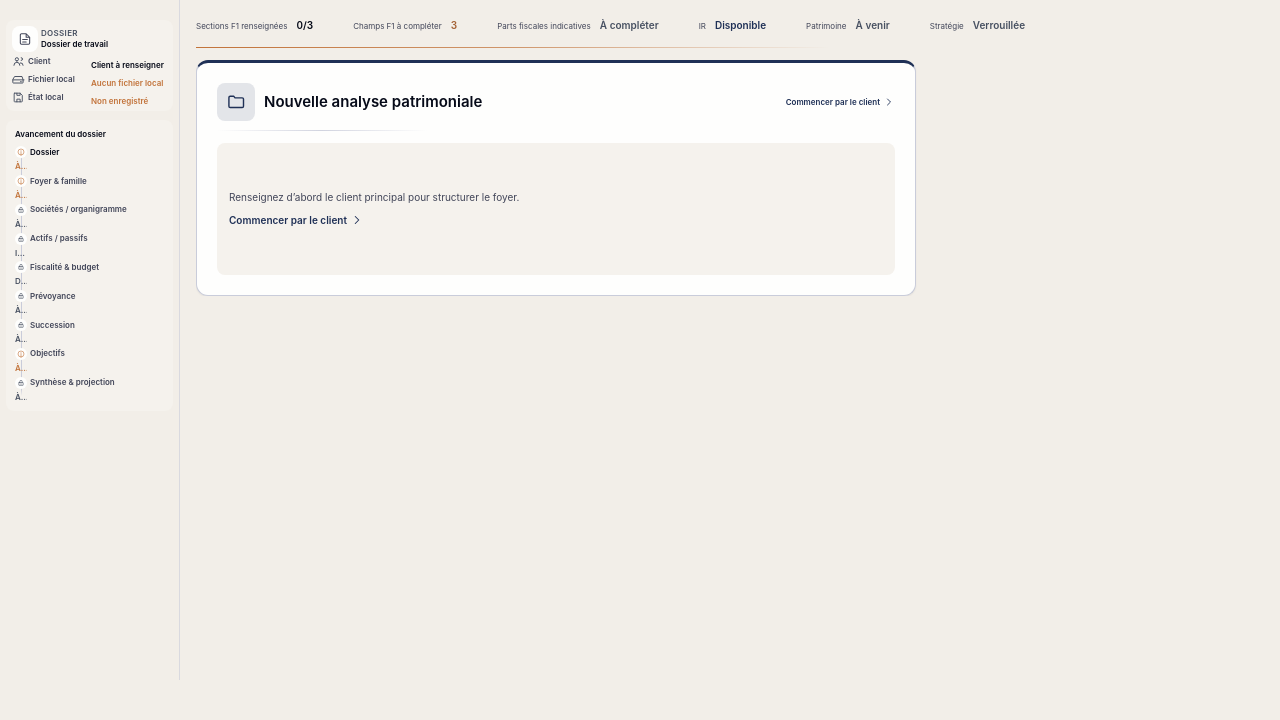
Scenario: AuditPage › ouvre la page Foyer & famille en pivot sans wizard puis revient au dossier par le header
What coordinates should you click on to do the following:
click the button "Commencer par le client"
I would click on:
 (840, 102)
Its box is top-left (786, 93), bottom-right (895, 111).
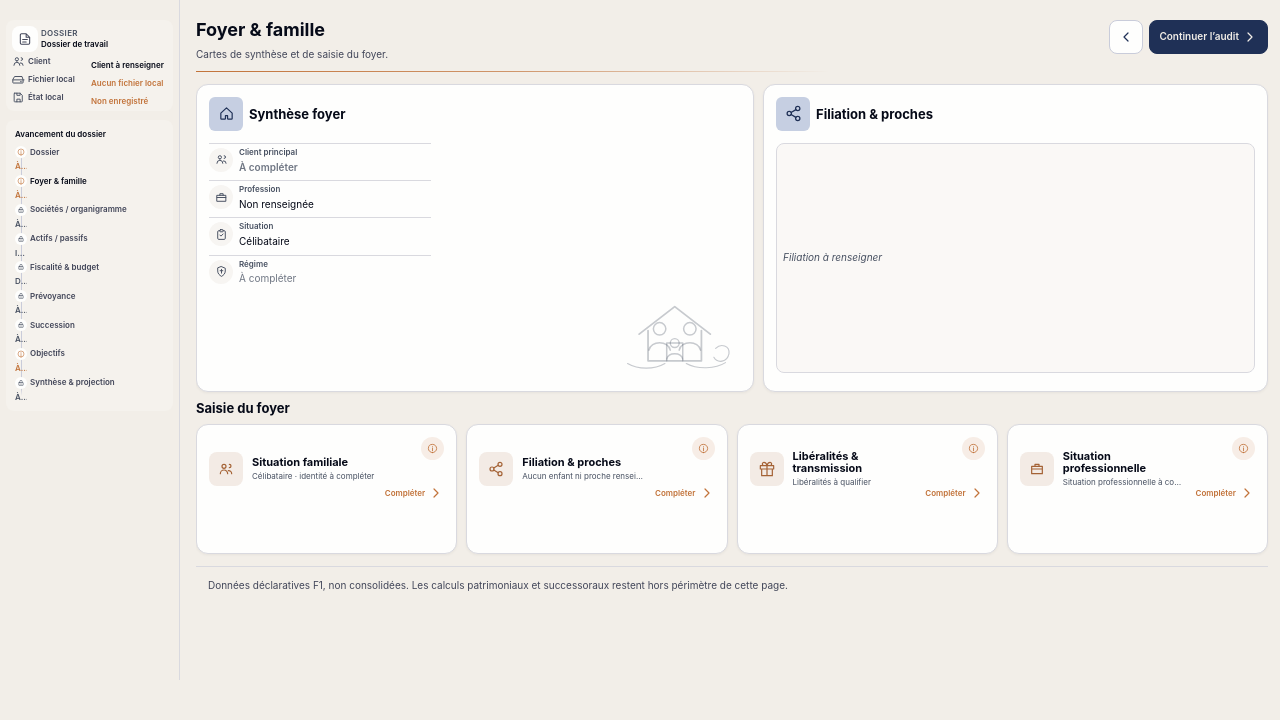
Result: the heading "Foyer & famille" is shown at top-left (196, 19), bottom-right (325, 40)
Result: the text "Cartes de synthèse et de saisie du foyer." is shown at top-left (196, 46), bottom-right (388, 62)
Result: the heading "Synthèse foyer" is shown at top-left (249, 107), bottom-right (345, 121)
What coordinates should you click on to do the following:
click the button named "Retour au dossier"
I would click on:
 (1126, 37)
Its box is top-left (1109, 20), bottom-right (1143, 54).
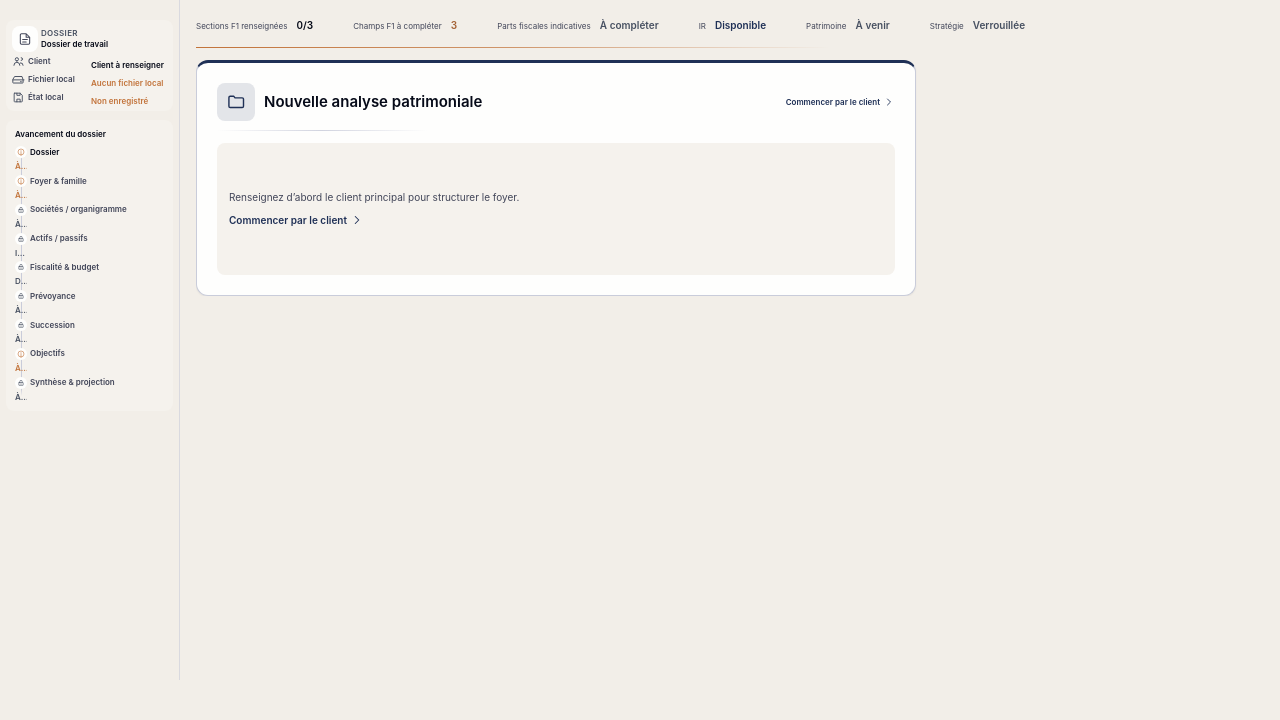
Result: the heading "Nouvelle analyse patrimoniale" is shown at top-left (264, 92), bottom-right (482, 112)
